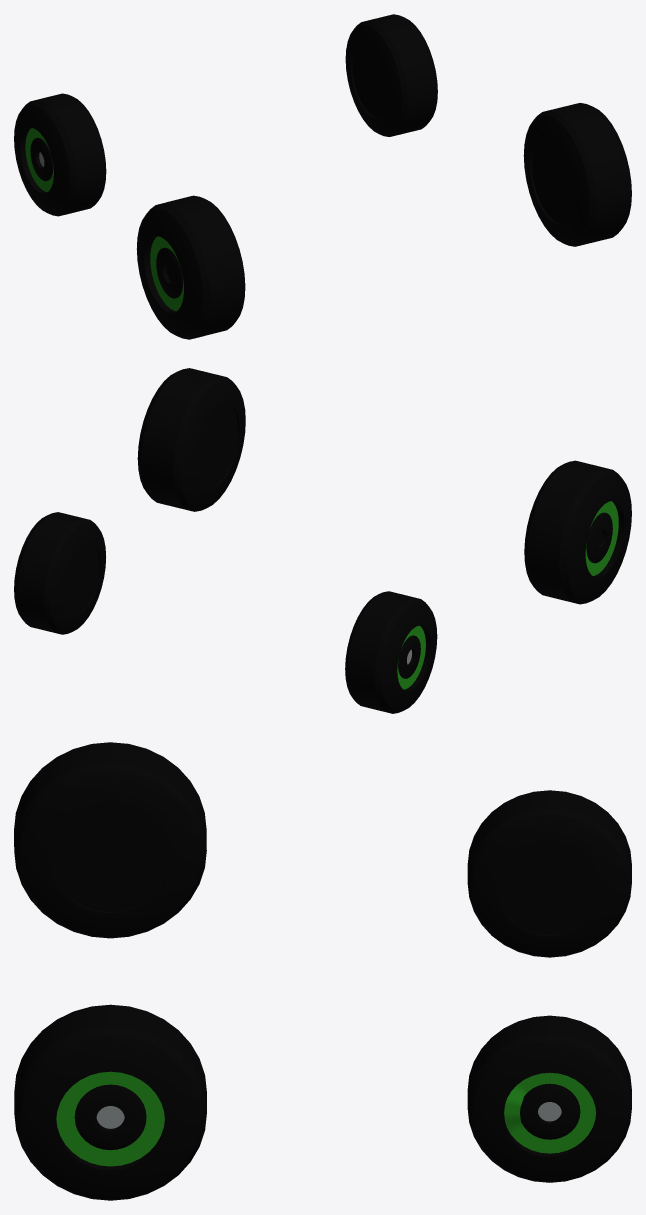
File: roda (4).fbx
The picture shows the model from 3 angles, top to bottom: view 1: azimuth 30°, elevation 25°; view 2: azimuth 150°, elevation 25°; view 3: azimuth 270°, elevation 25°; orthographic projection. The views are drawn at different scales.
Visible parts, largest first — view 1: rodas.001; view 2: rodas.001; view 3: rodas.001.
Part boxes in pixels (<box>): rodas.001: <box>14,14,631,339</box>; rodas.001: <box>14,368,631,713</box>; rodas.001: <box>14,742,631,1200</box>.
Size of the model in its own units: 624 by 199 by 710.
